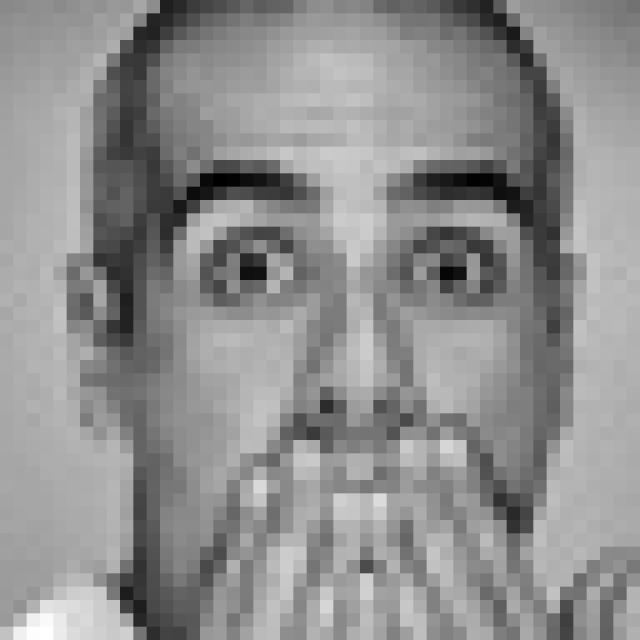fear: (157, 157, 548, 582)
